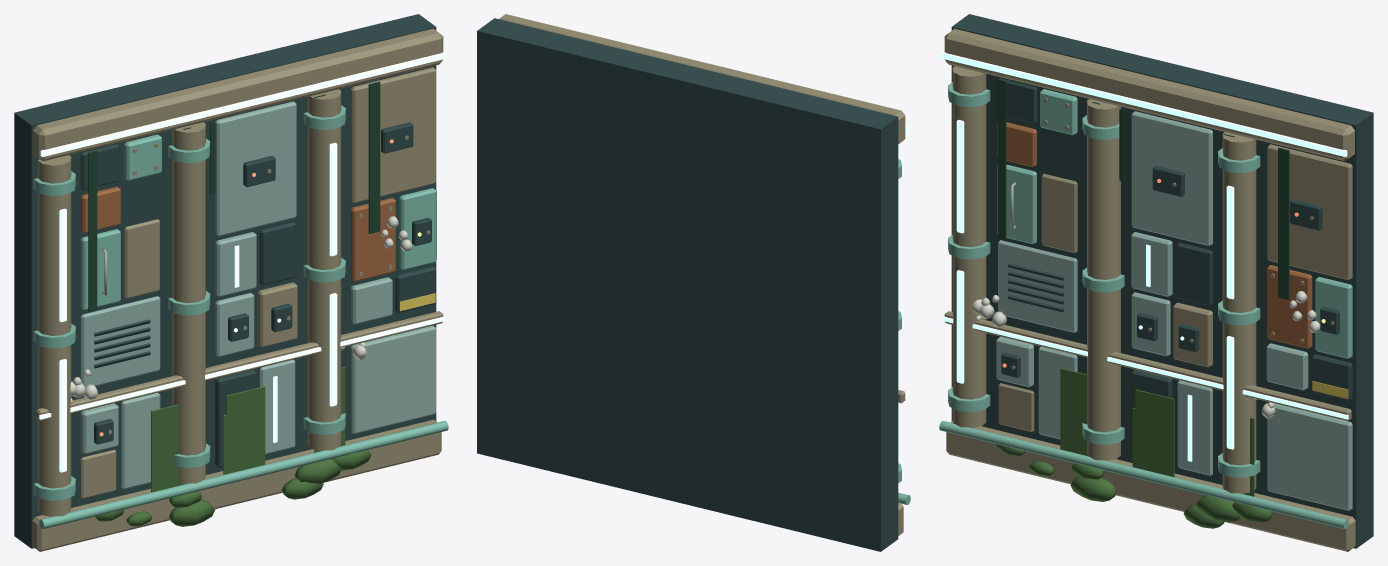
File: wall_dr_rib.glb
The picture shows the model from 3 angles, left to right: view 1: azimuth 30°, elevation 25°; view 2: azimuth 150°, elevation 25°; view 3: azimuth 330°, elevation 25°; orthographic projection.
Parts seen in each view (by area): view 1: wall_dr_rib; view 2: wall_dr_rib; view 3: wall_dr_rib.
Part boxes in pixels (bbox=[...]): wall_dr_rib: bbox=[14, 14, 448, 551]; wall_dr_rib: bbox=[477, 14, 910, 551]; wall_dr_rib: bbox=[939, 14, 1373, 551].
Bounding box in the file's own units: 4 × 4.06 × 0.5486.
